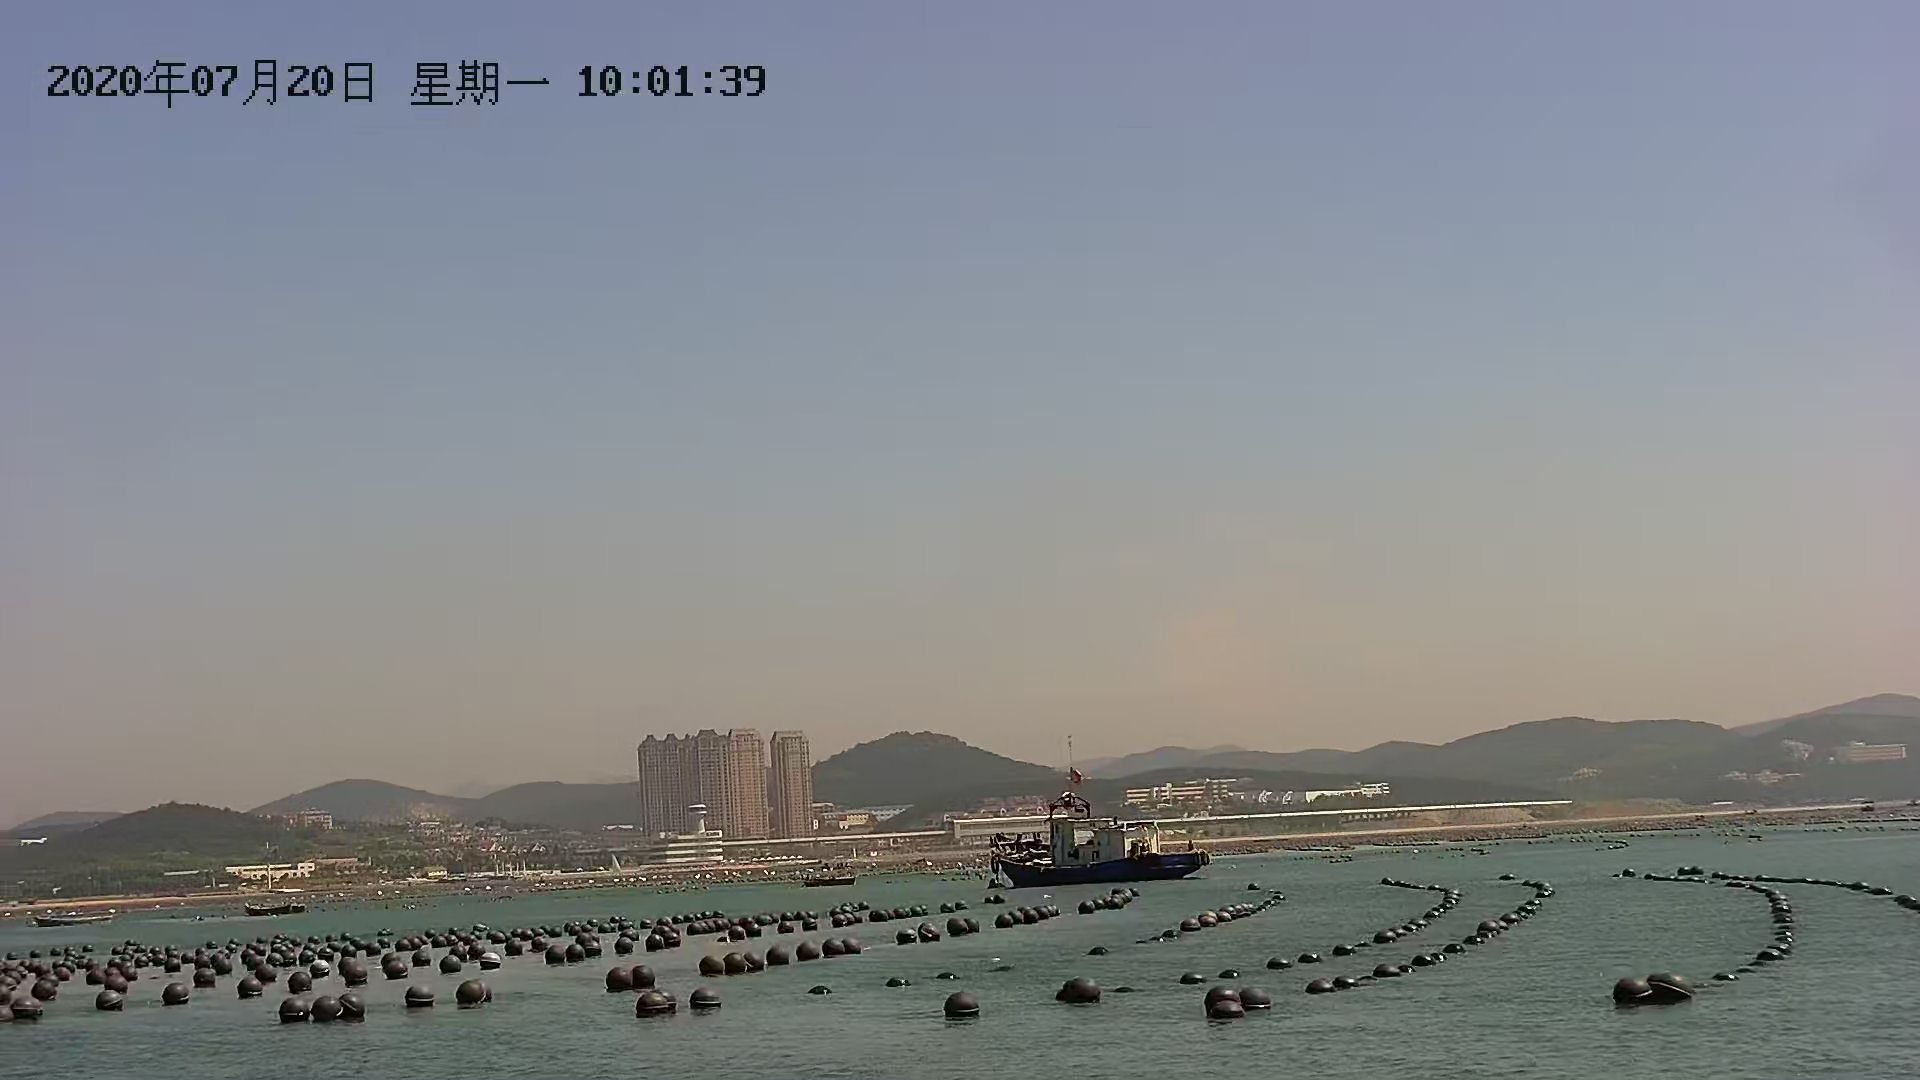ball: (1201, 985, 1244, 1029), (1650, 969, 1695, 1007), (1609, 973, 1658, 1007), (940, 989, 978, 1030), (1237, 982, 1276, 1021), (688, 982, 727, 1017), (633, 986, 669, 1022), (274, 997, 310, 1029), (7, 996, 49, 1022), (1302, 975, 1338, 1002), (459, 978, 491, 1010), (1058, 978, 1095, 1004), (311, 1000, 343, 1029), (162, 980, 191, 1010), (233, 975, 266, 1001), (98, 985, 123, 1018), (603, 964, 628, 994), (402, 984, 433, 1007)
boat: (803, 869, 861, 889), (243, 901, 314, 916)
ship: (990, 808, 1197, 885)
